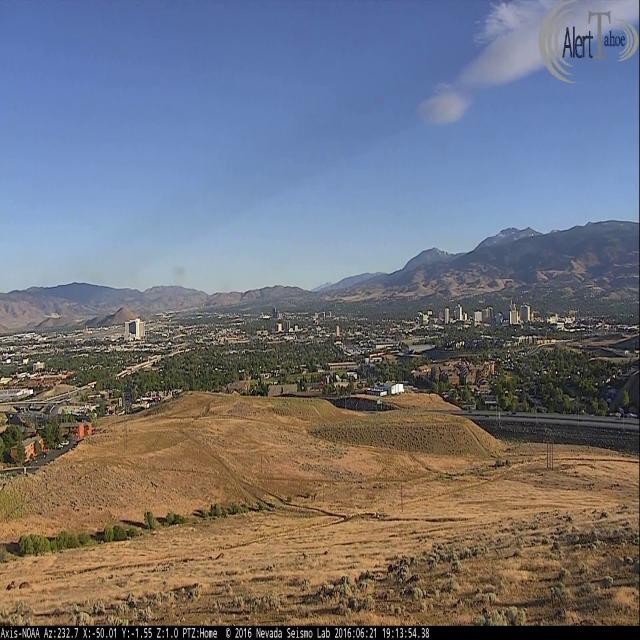smoke: (172, 264, 185, 291)
